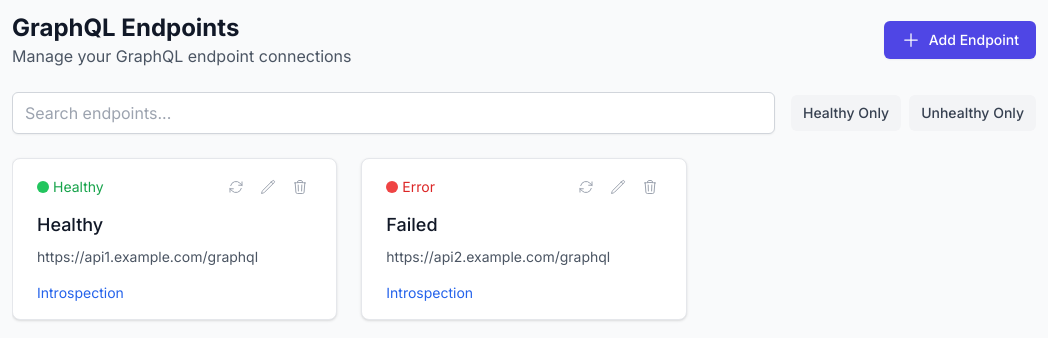
Scenario: EndpointList › filtering and search › should filter endpoints by status
Filter by healthy status
Click the button with test id "filter-healthy". click: (846,113)
box: [791,95,901,131]
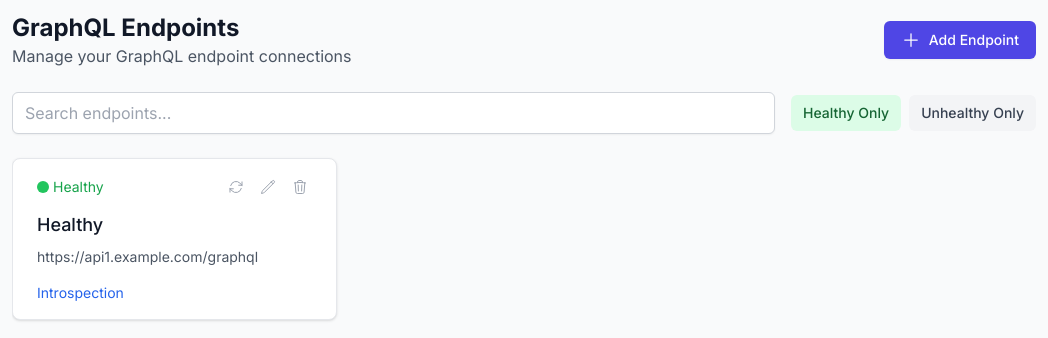
Expected: the text "Failed" is gone
